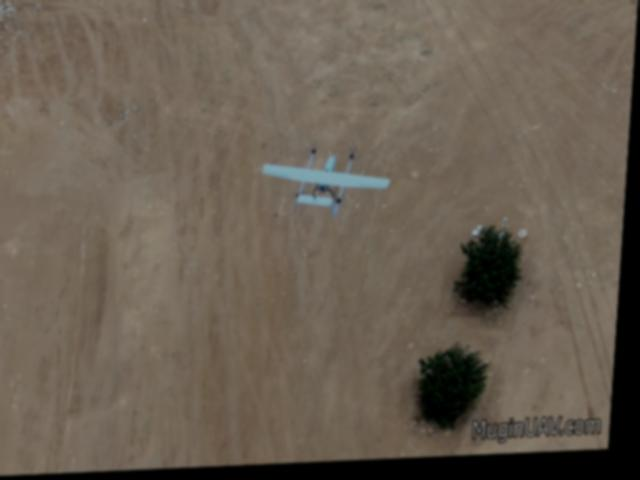plane: (265, 150, 394, 218)
